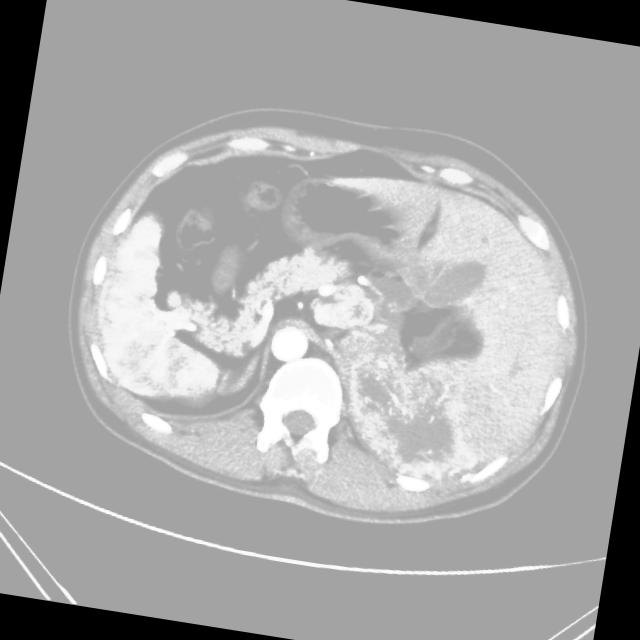TUMOR: (73, 118, 488, 486)
